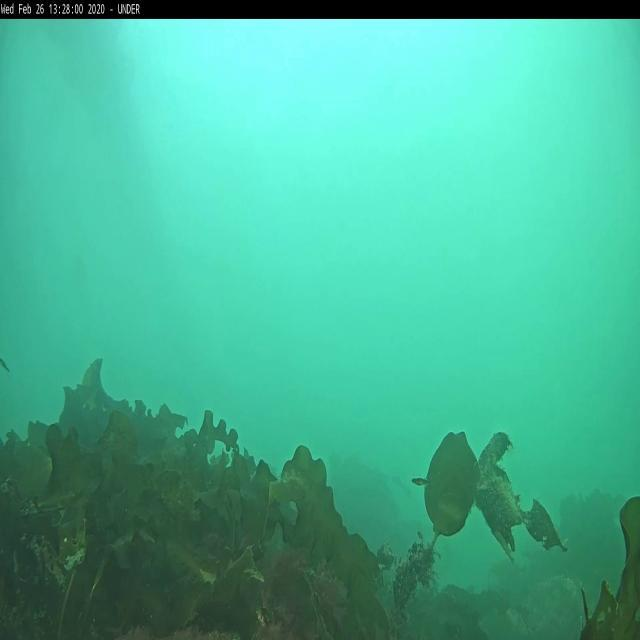fish: (412, 475, 429, 487)
